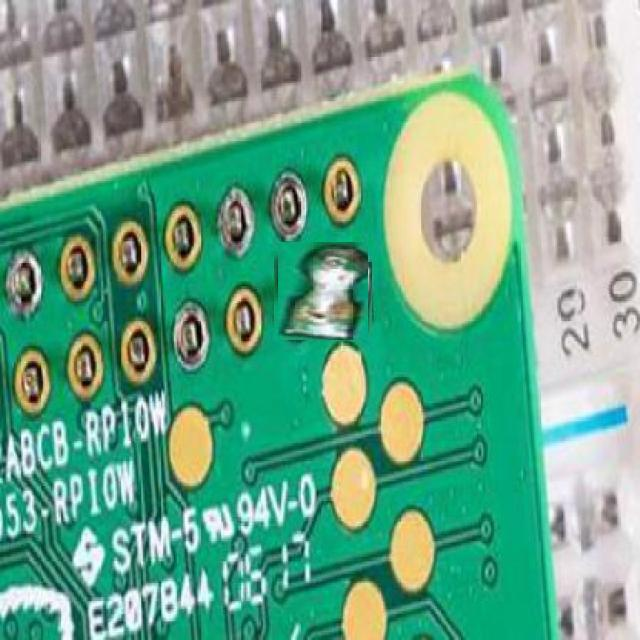Short_circuit: (276, 244, 370, 339)
